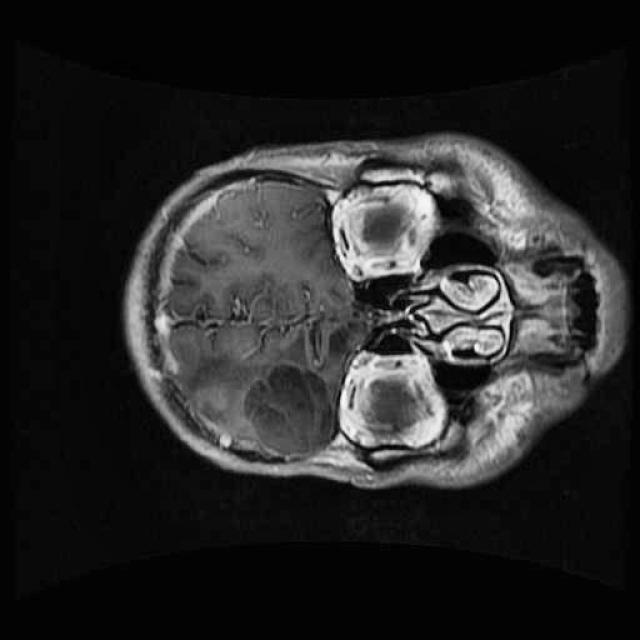Non-Tumor: (233, 354, 355, 474)
